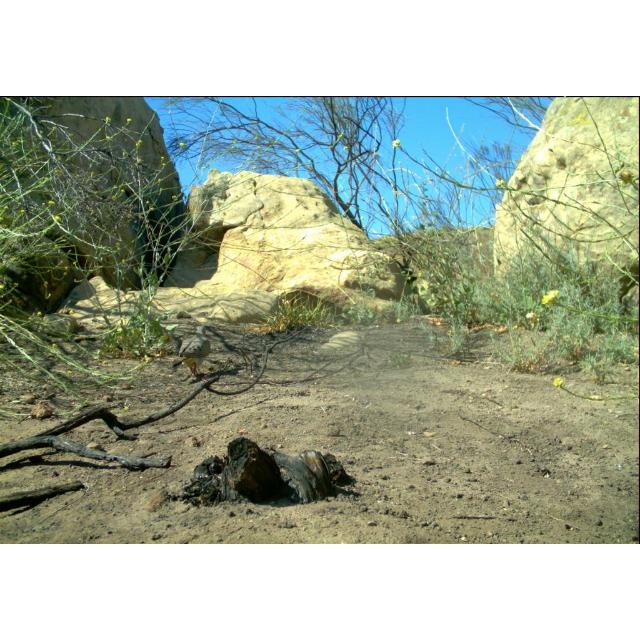animals: (172, 322, 212, 384)
